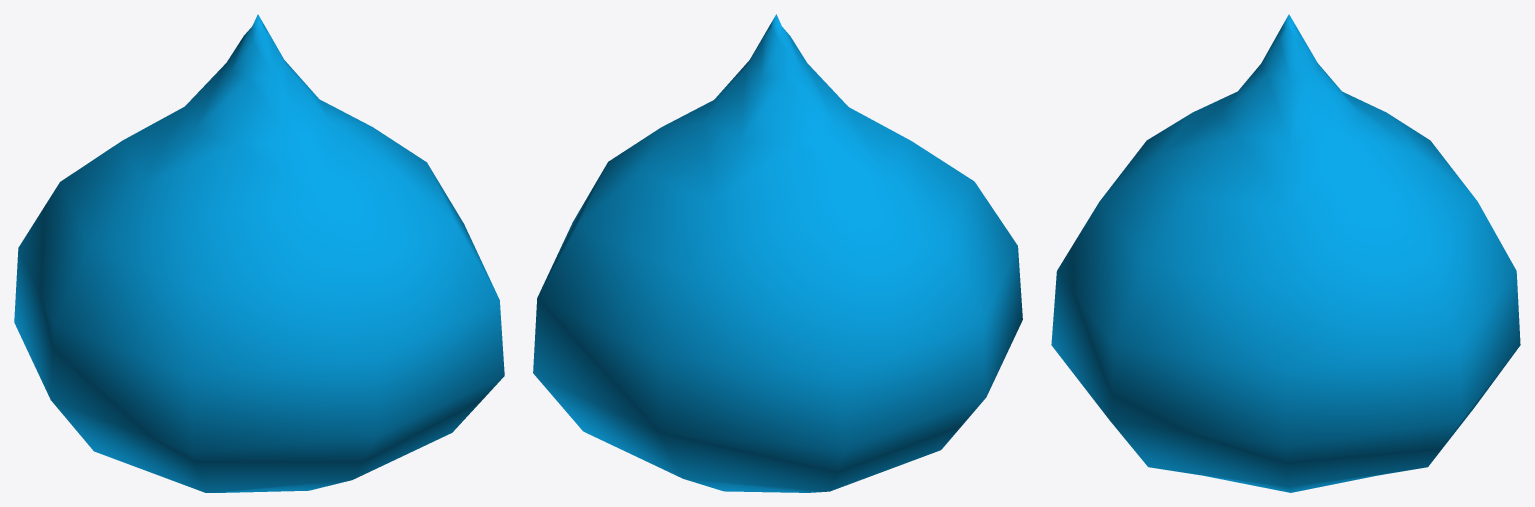
The model's file is suraimu01.FBX.
3 views of the same model, side by side, from view 1: azimuth 30°, elevation 25°; view 2: azimuth 150°, elevation 25°; view 3: azimuth 270°, elevation 25° (orthographic).
Visible parts, largest first — view 1: Box001; view 2: Box001; view 3: Box001.
Part boxes in pixels (<box>): Box001: <box>14,14,504,492</box>; Box001: <box>533,14,1022,492</box>; Box001: <box>1051,14,1520,492</box>.
Bounding box in the file's own units: 62.69 × 61.54 × 65.11.
Materials: 1 (1 with a texture image).
